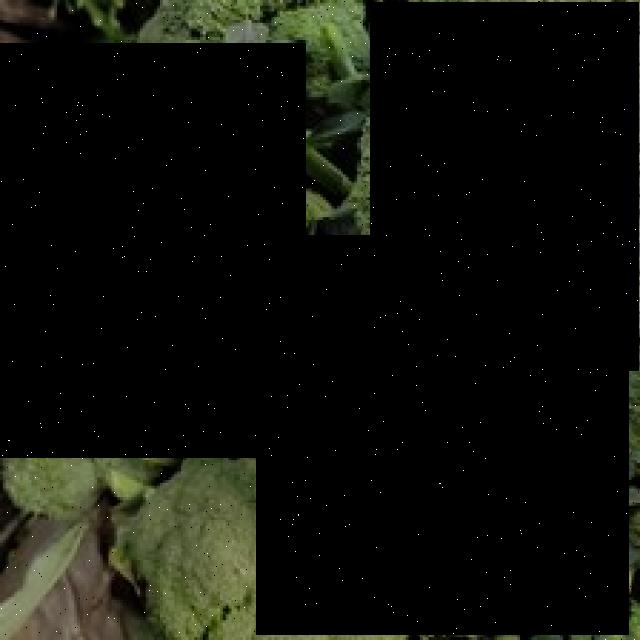Broccoli: (256, 235, 630, 635), (0, 43, 306, 458), (370, 2, 640, 372)
